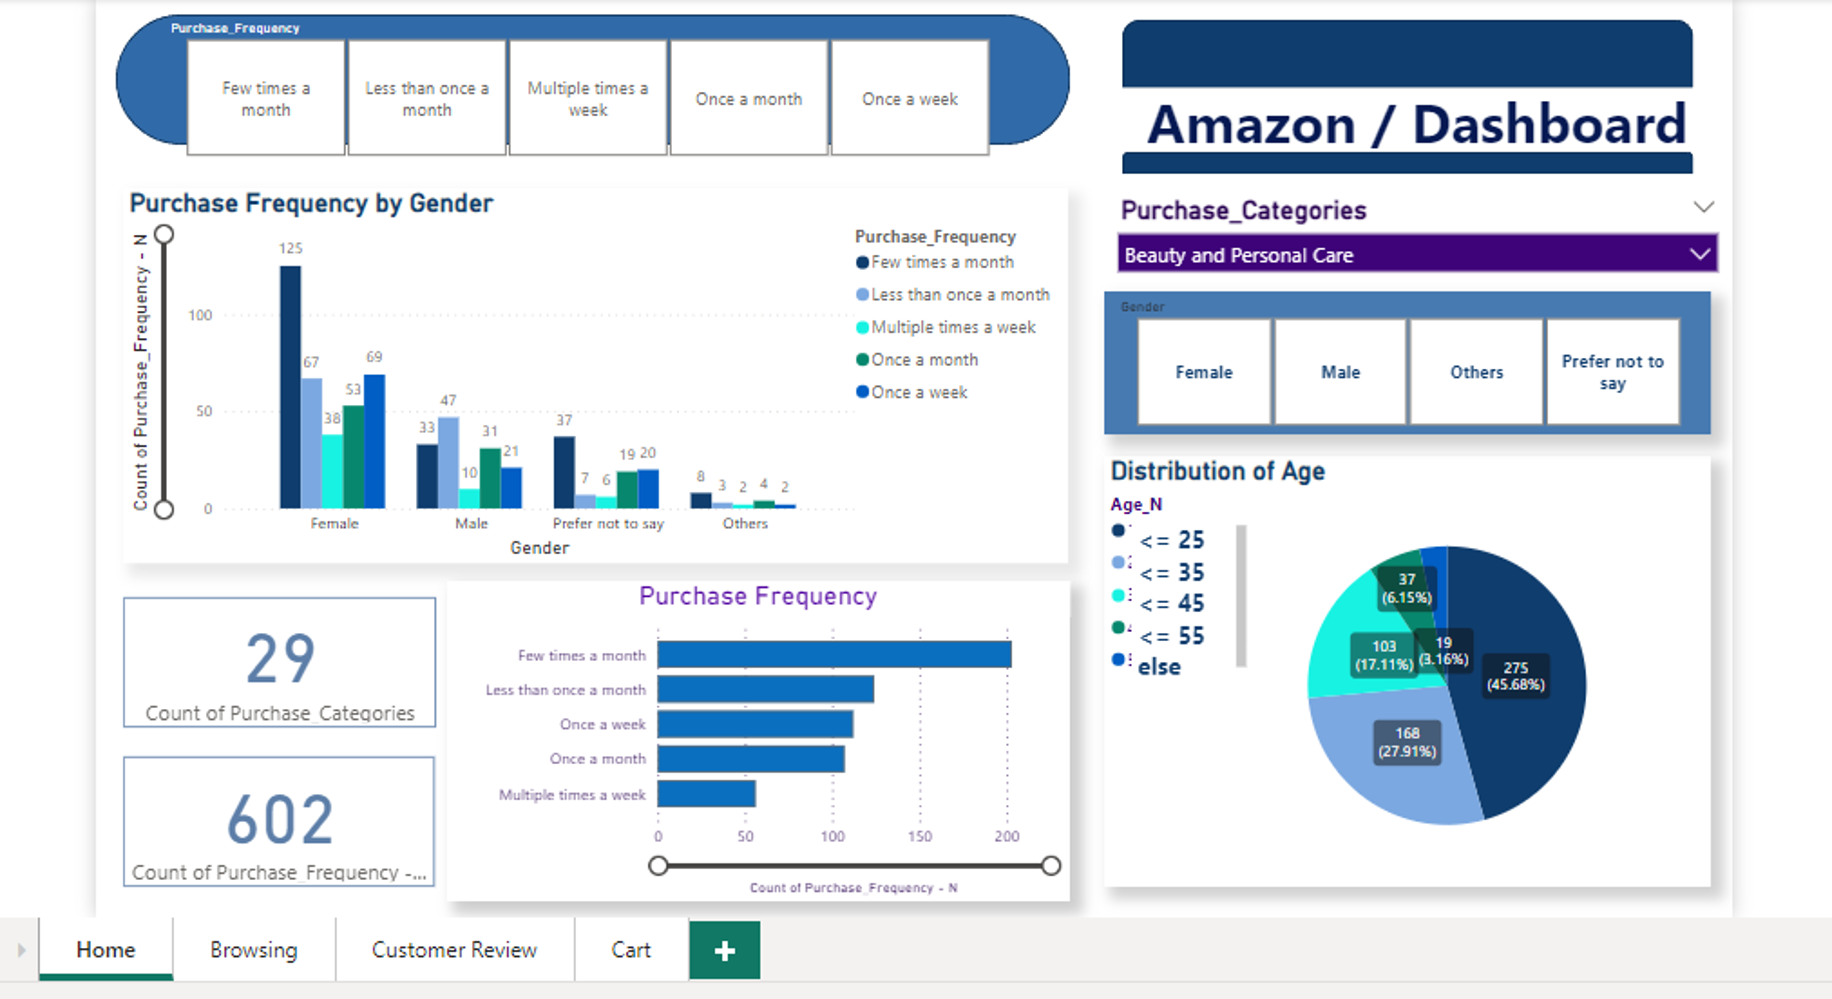

The page's visual inventory and layout, read from the dashboard file:
{"tool":"powerbi","page":{"name":"Home","canvas":[1280,720],"ordinal":0},"visuals":[{"type":"clusteredColumnChart","title":"Purchase Frequency by Gender ","fields":{"Y":["CountNonNull(Amazon Customer Behavior Survey 1 - Copy (1).Purchase_Frequency - N)"],"Series":["Amazon Customer Behavior Survey 1 - Copy (1).Purchase_Frequency"],"Category":["Amazon Customer Behavior Survey 1 - Copy (1).Gender"]},"box":[20.6,149.3,740,293.8],"z":0},{"type":"pieChart","title":"Distribution of Age","fields":{"Y":["CountNonNull(Amazon Customer Behavior Survey 1 - Copy (1).Age_N)"],"Category":["Amazon Customer Behavior Survey 1 - Copy (1).Age_N"]},"box":[789.4,358.5,474.9,336.5],"z":1000},{"type":"clusteredBarChart","title":"Purchase Frequency","fields":{"Y":["CountNonNull(Amazon Customer Behavior Survey 1 - Copy (1).Purchase_Frequency - N)"],"Category":["Amazon Customer Behavior Survey 1 - Copy (1).Purchase_Frequency"]},"box":[274.7,455.8,487.5,250.9],"z":2000},{"type":"slicer","fields":{"Values":["Amazon Customer Behavior Survey 1 - Copy.Purchase_Categories"]},"box":[789,149,491,80],"z":3000},{"type":"card","fields":{"Values":["CountNonNull(Amazon Customer Behavior Survey 1 - Copy (1).Purchase_Frequency - N)"]},"box":[21.3,593.6,243.5,102],"z":4000},{"type":"textbox","box":[817.3,62.7,462.7,67.5],"z":5000},{"type":"shape","box":[15.2,12.2,747.3,102],"z":6000},{"type":"card","fields":{"Values":["Count(Amazon Customer Behavior Survey 1 - Copy (1).Purchase_Categories)"]},"box":[20.6,468.5,244.6,101.6],"z":7000},{"type":"slicer","fields":{"Values":["Amazon Customer Behavior Survey 1 - Copy (1).Purchase_Frequency"]},"box":[46.1,11.1,678.1,119.1],"z":8000},{"type":"shape","box":[803.1,17.3,447.1,53.3],"z":9000},{"type":"shape","box":[803.1,120.8,447.1,17.3],"z":10000},{"type":"slicer","fields":{"Values":["Amazon Customer Behavior Survey 1 - Copy (1).Gender"]},"box":[789.4,229.6,474.9,111.6],"z":11000},{"type":"textbox","box":[810.7,406.8,95,127.6],"z":12000}]}

Visuals, with their boxes on the page's 1280x720 design canvas (x1, y1, x2, y2). These are canvas units, not pixel positions in the 1832x999 screenshot, which may show the page scaled, cropped or inside an application window:
"Purchase Frequency by Gender " clusteredColumnChart: [left=21, top=149, right=761, bottom=443]
"Distribution of Age" pieChart: [left=789, top=358, right=1264, bottom=695]
"Purchase Frequency" clusteredBarChart: [left=275, top=456, right=762, bottom=707]
slicer - Amazon Customer Behavior Survey 1 - Copy.Purchase_Categories: [left=789, top=149, right=1280, bottom=229]
card - CountNonNull(Amazon Customer Behavior Survey 1 - Copy (1).Purchase_Frequency - N): [left=21, top=594, right=265, bottom=696]
textbox: [left=817, top=63, right=1280, bottom=130]
shape: [left=15, top=12, right=762, bottom=114]
card - Count(Amazon Customer Behavior Survey 1 - Copy (1).Purchase_Categories): [left=21, top=468, right=265, bottom=570]
slicer - Amazon Customer Behavior Survey 1 - Copy (1).Purchase_Frequency: [left=46, top=11, right=724, bottom=130]
shape: [left=803, top=17, right=1250, bottom=71]
shape: [left=803, top=121, right=1250, bottom=138]
slicer - Amazon Customer Behavior Survey 1 - Copy (1).Gender: [left=789, top=230, right=1264, bottom=341]
textbox: [left=811, top=407, right=906, bottom=534]
